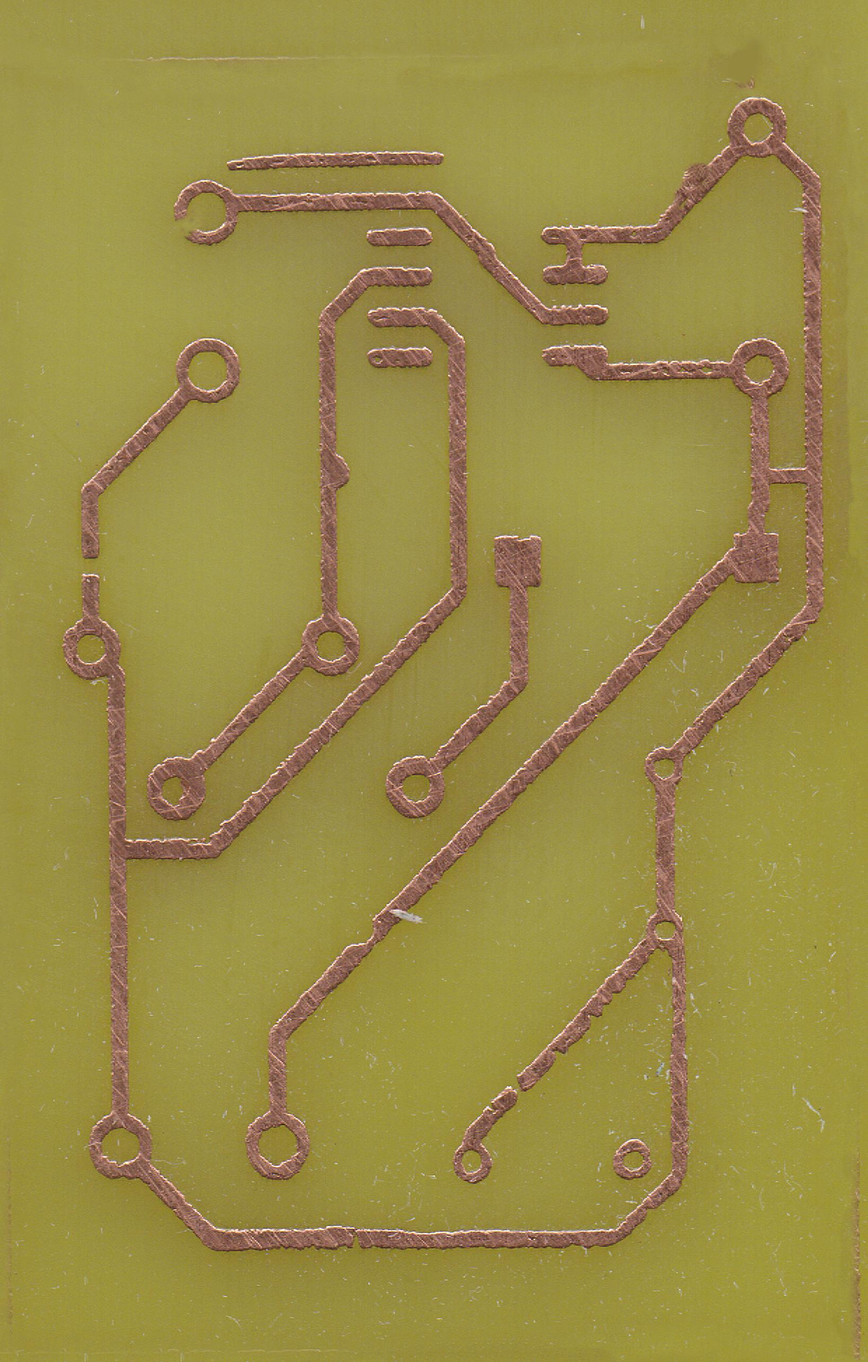missing_hole: (173, 179, 239, 247)
mouse_bite: (347, 918, 378, 949), (350, 1231, 363, 1252), (586, 1013, 601, 1028), (551, 1049, 567, 1063), (609, 989, 622, 1002), (598, 1001, 611, 1014), (623, 977, 635, 988), (645, 1207, 655, 1218)
open_circuit: (81, 543, 102, 587), (506, 1076, 528, 1101)
short: (751, 459, 825, 493)
spur: (319, 451, 353, 494), (676, 160, 709, 197), (652, 357, 684, 387)
spurious_copper: (223, 151, 445, 172)
